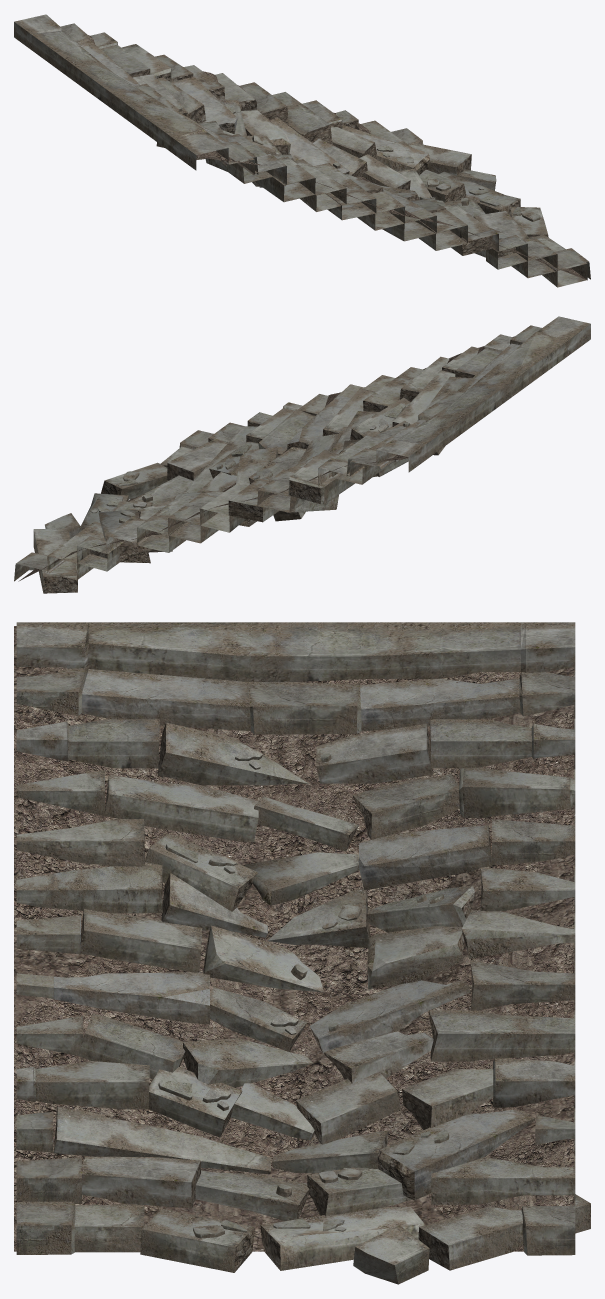
Rendered from bg_lut_lucastle_stair01b_sm_lkj.FBX.
3 renders of one model, top to bottom at view 1: azimuth 30°, elevation 25°; view 2: azimuth 150°, elevation 25°; view 3: azimuth 270°, elevation 25°, orthographic. The views are drawn at different scales.
Parts seen in each view (by area): view 1: bg_lut_lucastle_stair01b_sm_lkj; view 2: bg_lut_lucastle_stair01b_sm_lkj; view 3: bg_lut_lucastle_stair01b_sm_lkj.
Boxes of the visible parts, bbox=[...] form: bg_lut_lucastle_stair01b_sm_lkj: bbox=[14, 14, 590, 287]; bg_lut_lucastle_stair01b_sm_lkj: bbox=[14, 316, 590, 593]; bg_lut_lucastle_stair01b_sm_lkj: bbox=[14, 622, 590, 1284].
Bounding box in the file's own units: 514 × 268 × 397.
